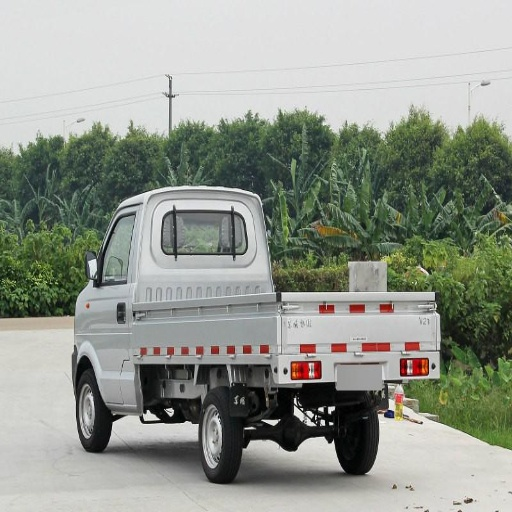trunk: (86, 270, 377, 417)
